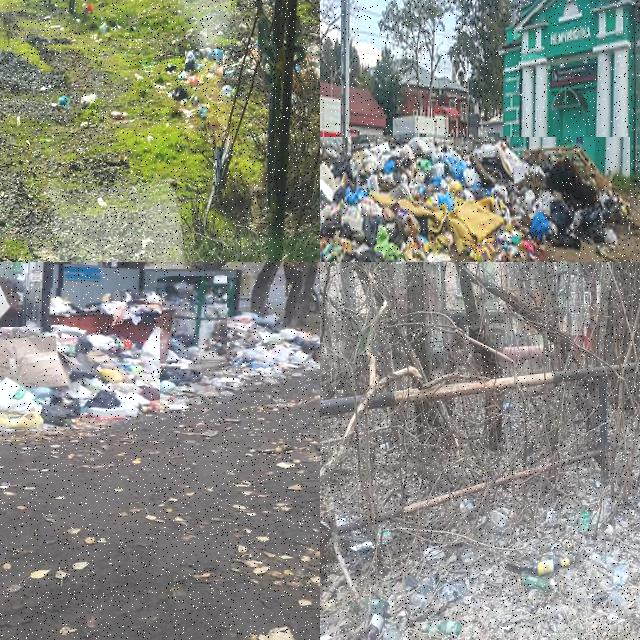lixeira: (320, 138, 632, 261), (0, 328, 162, 432), (157, 277, 228, 363), (209, 311, 319, 365), (43, 288, 164, 318), (0, 276, 28, 346), (522, 556, 577, 587), (226, 38, 261, 83), (355, 599, 389, 639), (172, 85, 208, 120), (186, 50, 225, 80), (307, 33, 319, 81), (420, 621, 461, 634), (178, 26, 204, 46), (610, 564, 630, 586), (95, 21, 120, 38), (459, 497, 475, 518), (578, 510, 592, 533), (81, 92, 96, 108), (80, 0, 96, 14), (234, 21, 248, 35), (57, 93, 71, 106), (112, 110, 130, 118), (222, 85, 234, 97)
